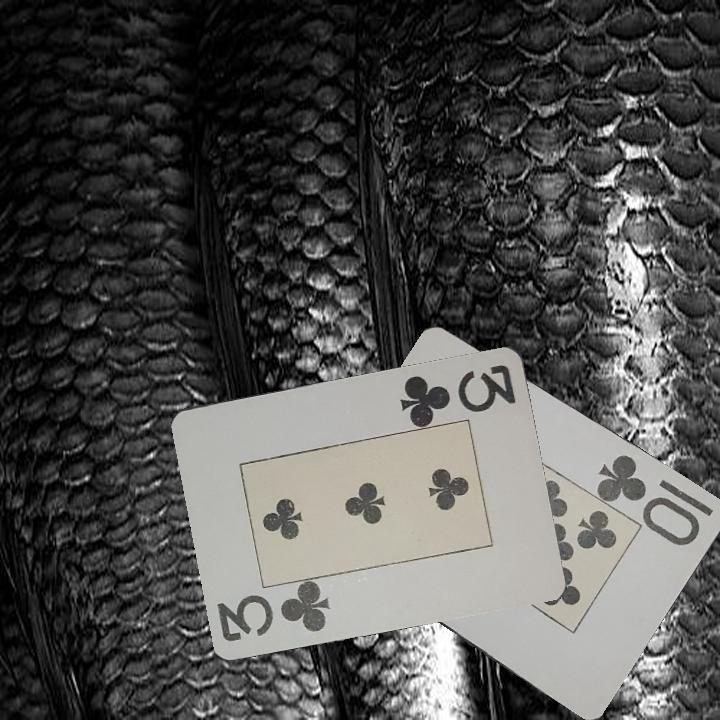3c: (396, 360, 522, 427), (214, 581, 334, 644)
Tc: (592, 450, 716, 550)
